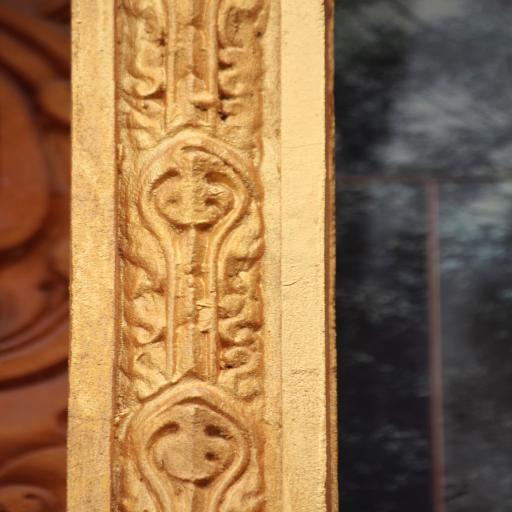la: (120, 134, 266, 388), (121, 0, 268, 137), (118, 386, 272, 512)
